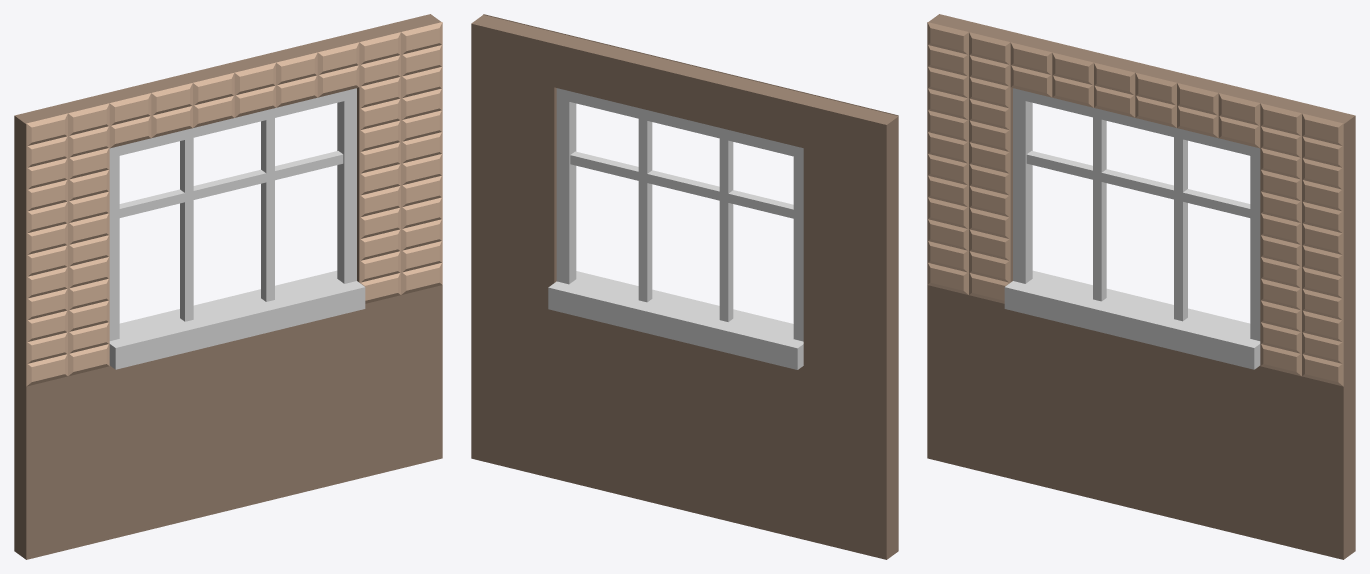
The model's file is Wall2.fbx.
The picture shows the model from 3 angles, left to right: view 1: azimuth 30°, elevation 25°; view 2: azimuth 150°, elevation 25°; view 3: azimuth 330°, elevation 25°; orthographic projection.
Visible parts, largest first — view 1: Cube; view 2: Cube; view 3: Cube.
Part boxes in pixels (x1,y1,x2,y2): Cube: (14,14,442,559); Cube: (471,14,898,559); Cube: (927,14,1355,559).
Bounding box in the file's own units: 200 × 200 × 20.
